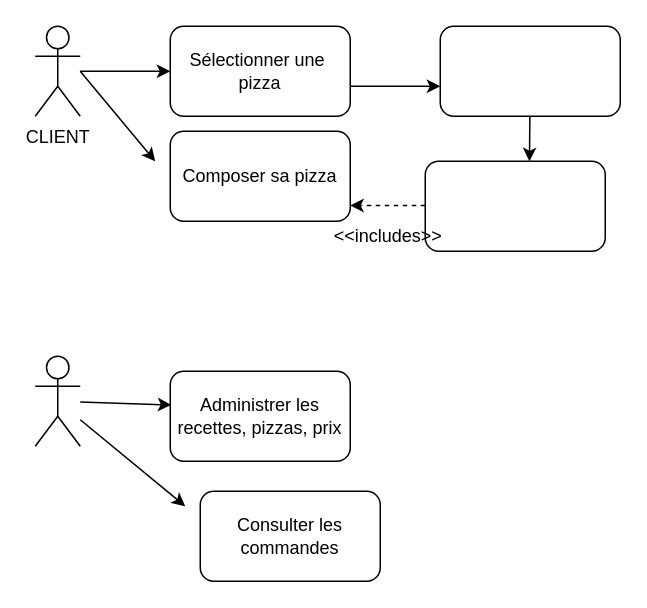
Image size: 647x608. Some labels were removed from this diagram. The shapes that lost their labels are listed below. From the top down, each one's centre as x and y in pixels, then its label:
At point (529, 70): "Retirer un ou plusieurs ingrédient(s)".
At point (514, 205): "Payer sa commande".
At point (57, 400): "MARIO".
